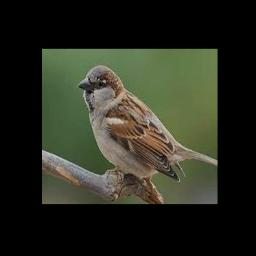Sparrow: (78, 65, 218, 182)
